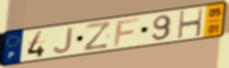4: (25, 30, 46, 58)
9: (152, 13, 174, 41)
F: (112, 16, 142, 48)
H: (177, 7, 205, 40)
J: (52, 26, 75, 55)
Z: (83, 20, 113, 53)
